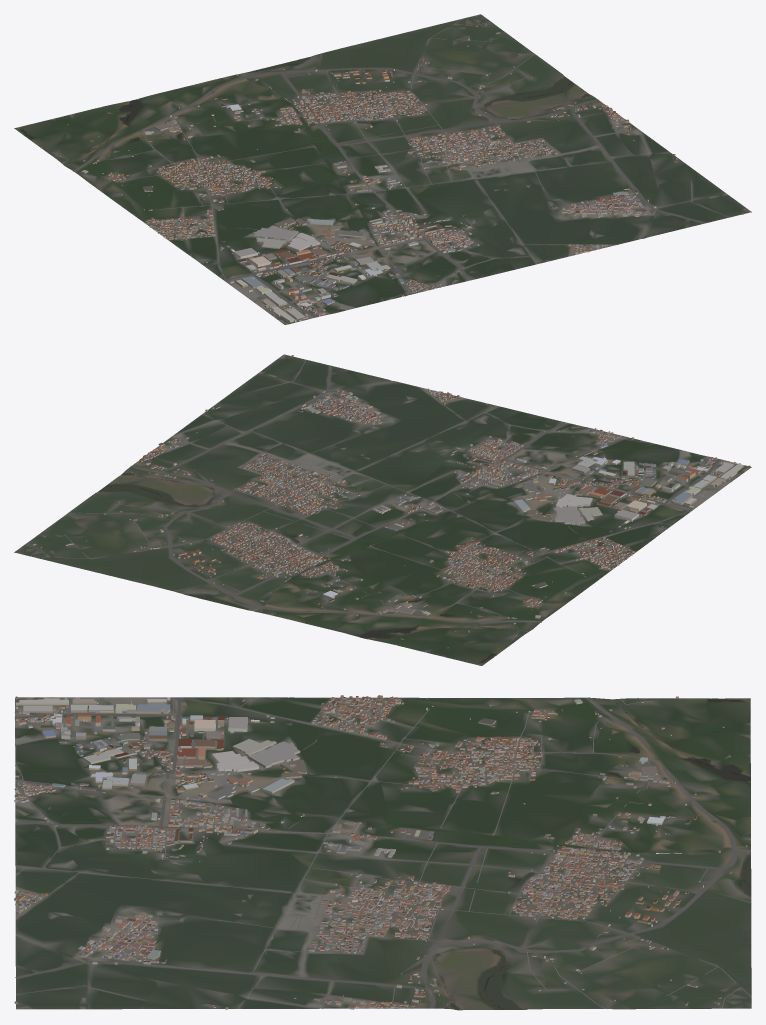
The picture shows the model from 3 angles, top to bottom: view 1: azimuth 30°, elevation 25°; view 2: azimuth 150°, elevation 25°; view 3: azimuth 270°, elevation 25°; orthographic projection. The views are drawn at different scales.
Parts seen in each view (by area): view 1: ground, buildings, roads, water; view 2: ground, buildings, roads, water; view 3: ground, buildings, roads, water.
Boxes of the visible parts, box(x1,y1,x2,y2) form: ground: box(14, 14, 751, 324); buildings: box(40, 23, 744, 324); roads: box(51, 18, 729, 319); water: box(20, 57, 589, 164); ground: box(14, 354, 751, 665); buildings: box(32, 355, 750, 647); roads: box(25, 359, 721, 645); water: box(98, 473, 529, 662); ground: box(15, 697, 751, 1010); buildings: box(14, 695, 747, 1009); roads: box(14, 697, 751, 1008); water: box(433, 699, 750, 1009).
Size of the model in its own units: 2810 by 35.54 by 2813.
